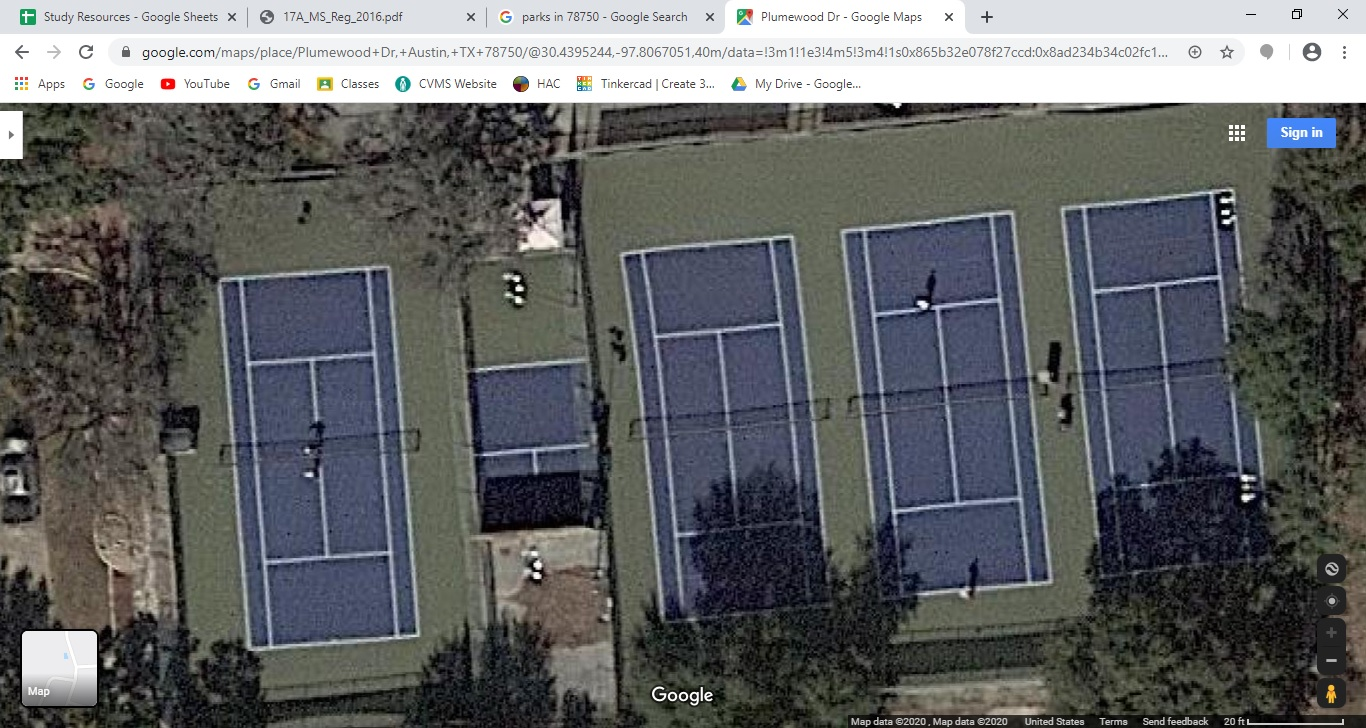tennis: (1048, 181, 1308, 605), (195, 252, 440, 662), (605, 232, 840, 624)
